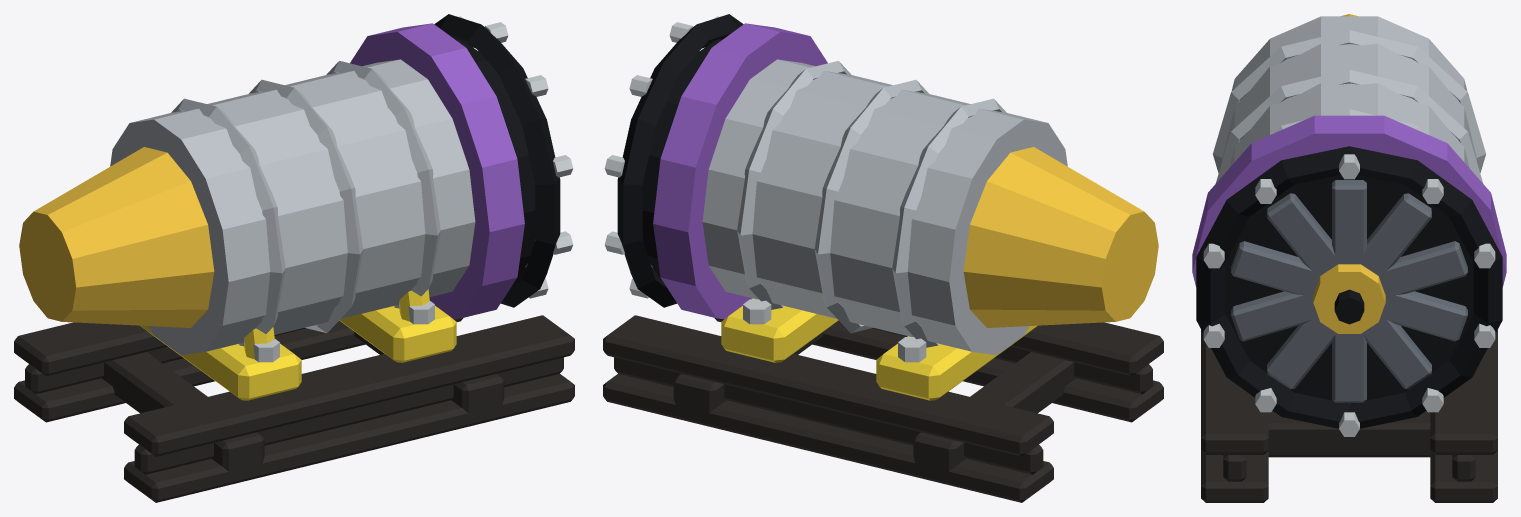
File: turbines.glb
The picture shows the model from 3 angles, left to right: view 1: azimuth 30°, elevation 25°; view 2: azimuth 150°, elevation 25°; view 3: azimuth 270°, elevation 25°; orthographic projection. The views are drawn at different scales.
Visible parts, largest first — view 1: turbines-silver-engine-body, turbines-gold-nozzle, turbines-left-skid-top, turbines-purple-intake-ring, turbines-left-skid-bottom, turbines-black-intake-lip, turbines-right-skid-bottom, turbines-left-skid-web, turbines-rear-cross-tie, turbines-right-skid-top, turbines-left-yellow-foot, turbines-body-rib-centre (+6 smaller); view 2: turbines-silver-engine-body, turbines-gold-nozzle, turbines-right-skid-top, turbines-purple-intake-ring, turbines-right-skid-bottom, turbines-black-intake-lip, turbines-left-skid-bottom, turbines-right-skid-web, turbines-rear-cross-tie, turbines-left-skid-top, turbines-left-yellow-foot, turbines-right-yellow-foot (+8 smaller); view 3: turbines-black-intake-lip, turbines-silver-engine-body, turbines-deep-black-intake-disk, turbines-purple-intake-ring, turbines-front-cross-tie, turbines-left-skid-top, turbines-right-skid-top, turbines-body-rib-left, turbines-body-rib-centre, turbines-gold-fan-hub, turbines-fat-fan-blade-2, turbines-fat-fan-blade-8 (+24 smaller).
Part boxes in pixels (bbox=[...]): turbines-silver-engine-body: bbox=[110, 59, 475, 355]; turbines-gold-nozzle: bbox=[19, 147, 214, 327]; turbines-left-skid-top: bbox=[124, 315, 574, 456]; turbines-purple-intake-ring: bbox=[350, 23, 524, 319]; turbines-left-skid-bottom: bbox=[124, 373, 574, 502]; turbines-black-intake-lip: bbox=[434, 14, 560, 307]; turbines-right-skid-bottom: bbox=[14, 318, 463, 422]; turbines-left-skid-web: bbox=[134, 357, 563, 474]; turbines-rear-cross-tie: bbox=[102, 352, 264, 471]; turbines-right-skid-top: bbox=[14, 322, 167, 376]; turbines-left-yellow-foot: bbox=[140, 325, 301, 400]; turbines-body-rib-centre: bbox=[249, 79, 363, 333]; turbines-silver-engine-body: bbox=[702, 59, 1067, 355]; turbines-gold-nozzle: bbox=[963, 147, 1158, 327]; turbines-right-skid-top: bbox=[603, 315, 1053, 456]; turbines-purple-intake-ring: bbox=[653, 23, 827, 319]; turbines-right-skid-bottom: bbox=[603, 373, 1053, 502]; turbines-black-intake-lip: bbox=[617, 14, 743, 307]; turbines-left-skid-bottom: bbox=[714, 318, 1163, 422]; turbines-right-skid-web: bbox=[614, 357, 1043, 474]; turbines-rear-cross-tie: bbox=[913, 352, 1075, 471]; turbines-left-skid-top: bbox=[1010, 322, 1163, 376]; turbines-left-yellow-foot: bbox=[876, 325, 1037, 400]; turbines-right-yellow-foot: bbox=[721, 298, 838, 362]; turbines-black-intake-lip: bbox=[1196, 146, 1502, 428]; turbines-silver-engine-body: bbox=[1222, 16, 1476, 167]; turbines-deep-black-intake-disk: bbox=[1225, 175, 1473, 403]; turbines-purple-intake-ring: bbox=[1192, 115, 1506, 403]; turbines-front-cross-tie: bbox=[1267, 410, 1431, 457]; turbines-left-skid-top: bbox=[1201, 329, 1268, 454]; turbines-right-skid-top: bbox=[1430, 329, 1497, 454]; turbines-body-rib-left: bbox=[1213, 30, 1485, 172]; turbines-body-rib-centre: bbox=[1215, 69, 1483, 183]; turbines-gold-fan-hub: bbox=[1313, 264, 1385, 333]; turbines-fat-fan-blade-2: bbox=[1376, 241, 1467, 297]; turbines-fat-fan-blade-8: bbox=[1231, 241, 1322, 296].
Size of the model in its own units: 1.51 by 1 by 0.8222.
